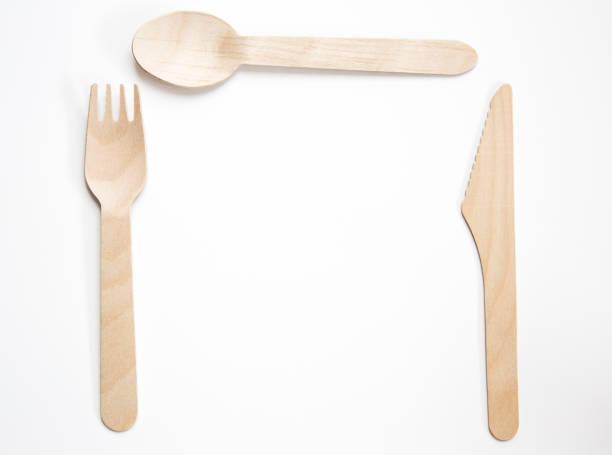Wooden Utensils: (49, 84, 180, 431), (115, 1, 500, 109), (448, 86, 545, 435)
